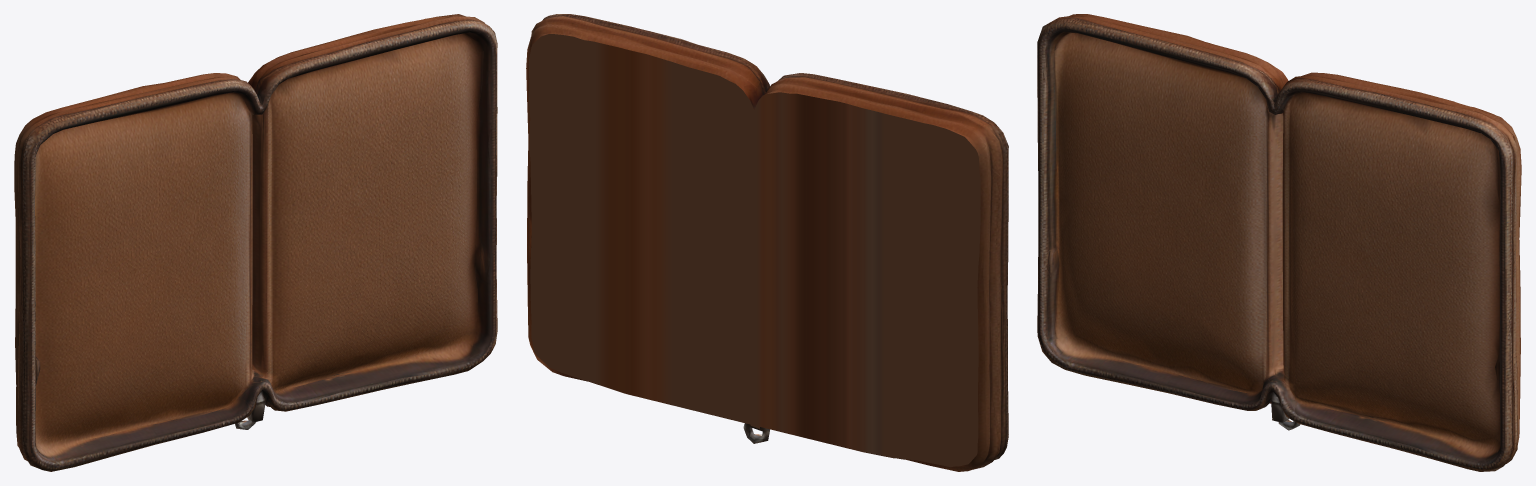
Rendered from Bag.fbx.
The picture shows the model from 3 angles, left to right: view 1: azimuth 30°, elevation 25°; view 2: azimuth 150°, elevation 25°; view 3: azimuth 330°, elevation 25°; orthographic projection.
Visible parts, largest first — view 1: material_0; view 2: material_0; view 3: material_0.
Part boxes in pixels (x1,y1,x2,y2): material_0: (14, 14, 497, 471); material_0: (526, 14, 1008, 471); material_0: (1037, 14, 1521, 471).
Size of the model in its own units: 197 by 147 by 15.
1 material, 1 textured.
